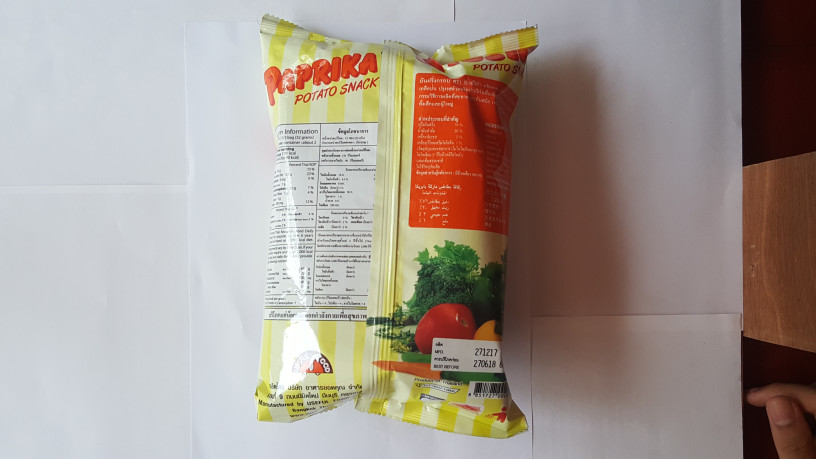paprika: (235, 7, 548, 456)
